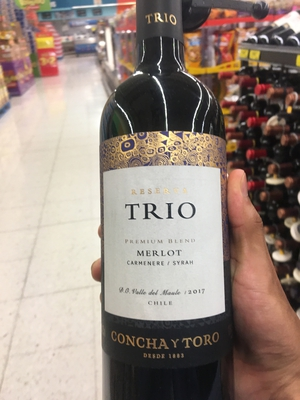trio merlot: (94, 28, 227, 397)
